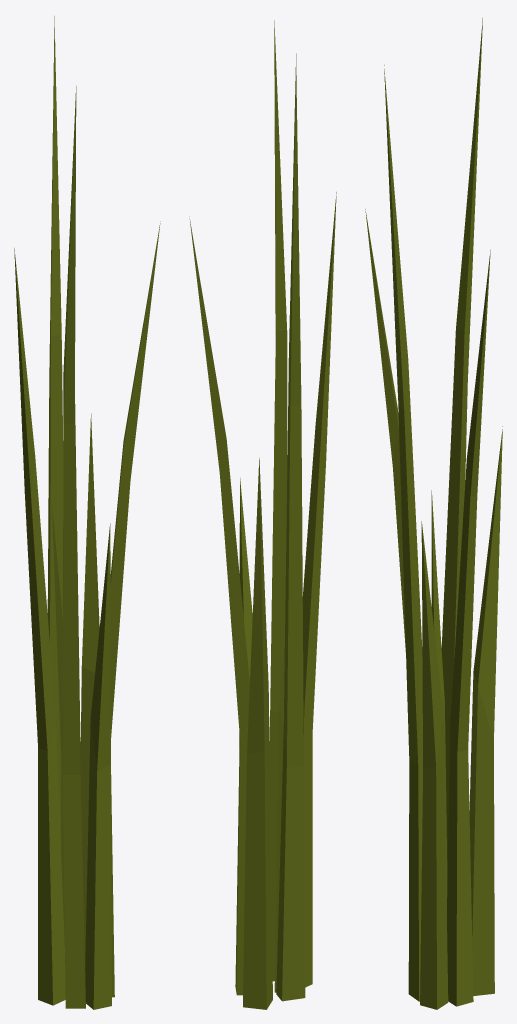
Rendered from High Grass_2.fbx.
3 renders of one model, left to right at view 1: azimuth 30°, elevation 25°; view 2: azimuth 210°, elevation 25°; view 3: azimuth 330°, elevation 25°, orthographic.
Visible parts, largest first — view 1: High Grass_2; view 2: High Grass_2; view 3: High Grass_2.
Part boxes in pixels (left/top/right/bottom): High Grass_2: left=14, top=16, right=160, bottom=1009; High Grass_2: left=189, top=20, right=336, bottom=1009; High Grass_2: left=365, top=18, right=502, bottom=1009.
Bounding box in the file's own units: 0.4548 × 3.05 × 0.3498.
